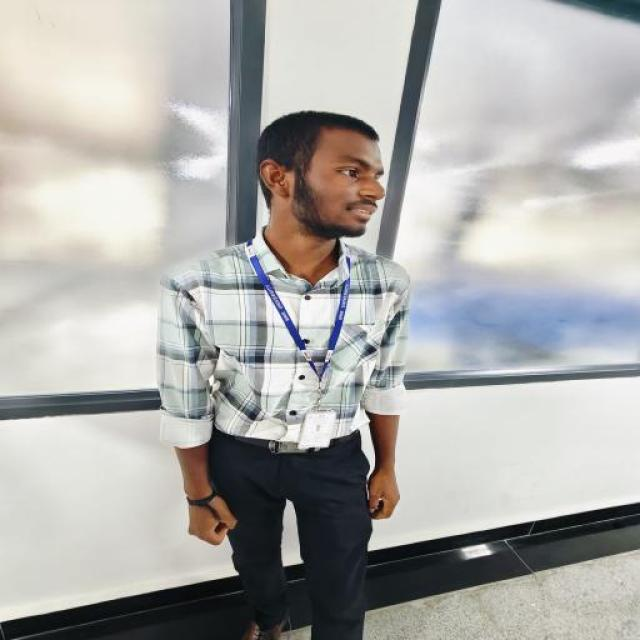Card: (298, 410, 337, 448)
Id strap: (245, 240, 351, 383)
